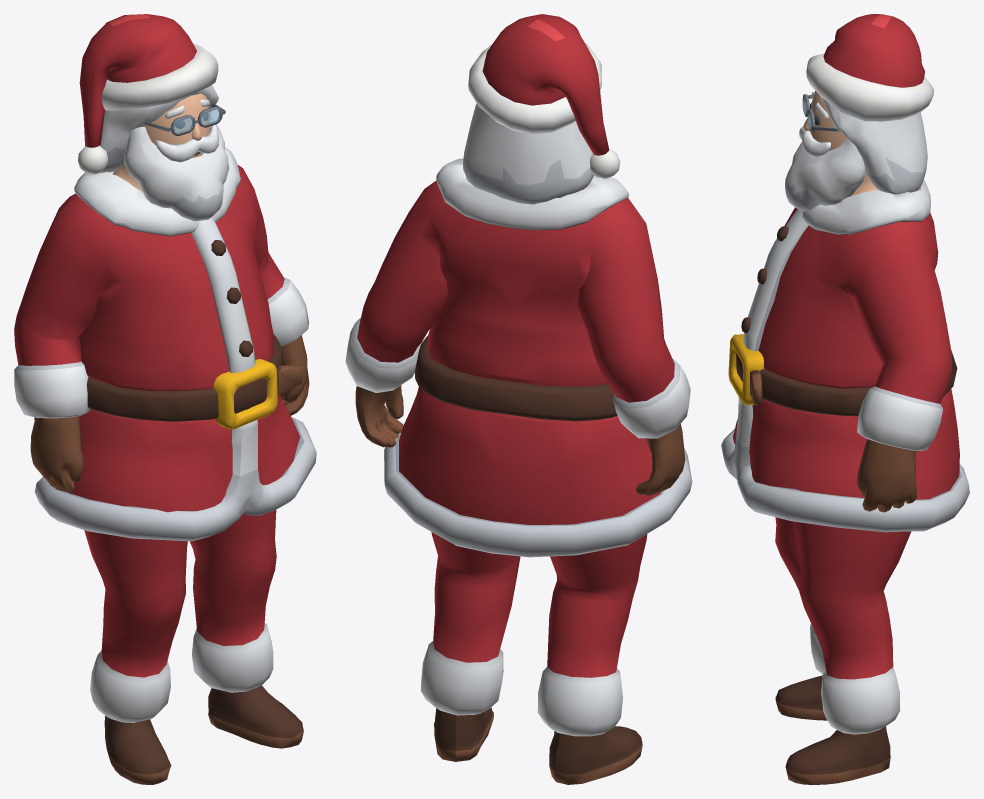
File: papai_noel_boneco_natal_pacote.glb
3 views of the same model, side by side, from view 1: azimuth 30°, elevation 25°; view 2: azimuth 150°, elevation 25°; view 3: azimuth 270°, elevation 25° (orthographic). The views are drawn at different scales.
Parts seen in each view (by area): view 1: papai_noel_boneco_natal_pacote; view 2: papai_noel_boneco_natal_pacote; view 3: papai_noel_boneco_natal_pacote.
Boxes of the visible parts, x1=… form: papai_noel_boneco_natal_pacote: x1=14, y1=14, x2=316, y2=784; papai_noel_boneco_natal_pacote: x1=345, y1=14, x2=692, y2=784; papai_noel_boneco_natal_pacote: x1=721, y1=14, x2=969, y2=784.
Bounding box in the file's own units: 0.5188 × 1.2 × 0.3835.
Materials: 2 (1 with a texture image).
